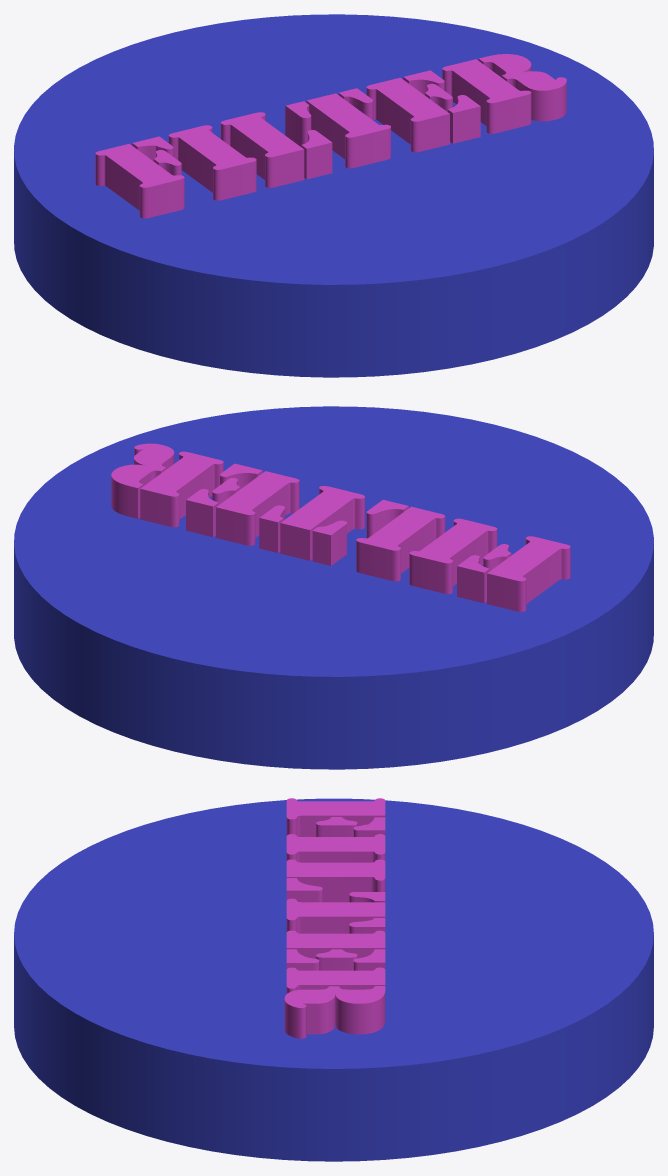
Rendered from buttonFilter.fbx.
3 views of the same model, one above another, from view 1: azimuth 30°, elevation 25°; view 2: azimuth 150°, elevation 25°; view 3: azimuth 270°, elevation 25° (orthographic).
Visible parts, largest first — view 1: root, node_id108; view 2: root, node_id108; view 3: root, node_id108.
Part boxes in pixels (left/top/right/bottom): root: left=14, top=14, right=653, bottom=377; node_id108: left=95, top=54, right=566, bottom=218; root: left=14, top=406, right=653, bottom=769; node_id108: left=111, top=443, right=570, bottom=611; root: left=14, top=798, right=653, bottom=1161; node_id108: left=284, top=798, right=385, bottom=1038.
Bounding box in the file's own units: 0.4953 × 0.1053 × 0.4953.
2 materials, 1 textured.
